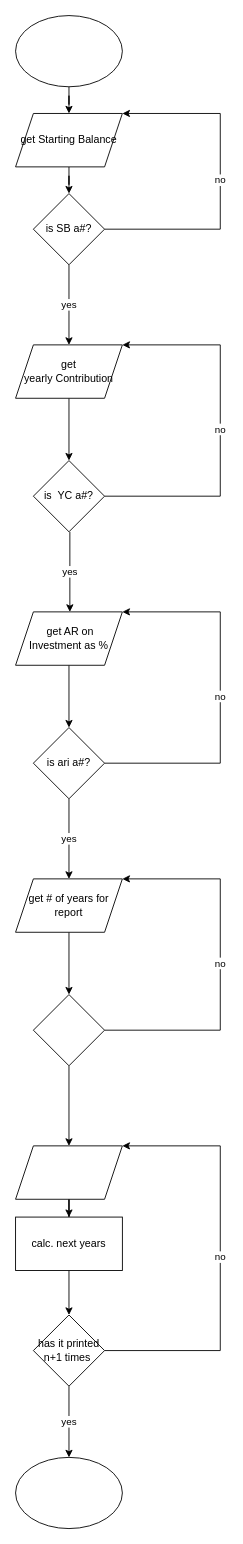
Image size: 243x1544. Some labels were removed from this diagram. Each missing label, with the box of its shape:
end: (15, 1456, 122, 1529)
is years for report is a#?: (32, 994, 105, 1066)
print balance: (15, 1145, 122, 1199)
start: (15, 15, 122, 87)
